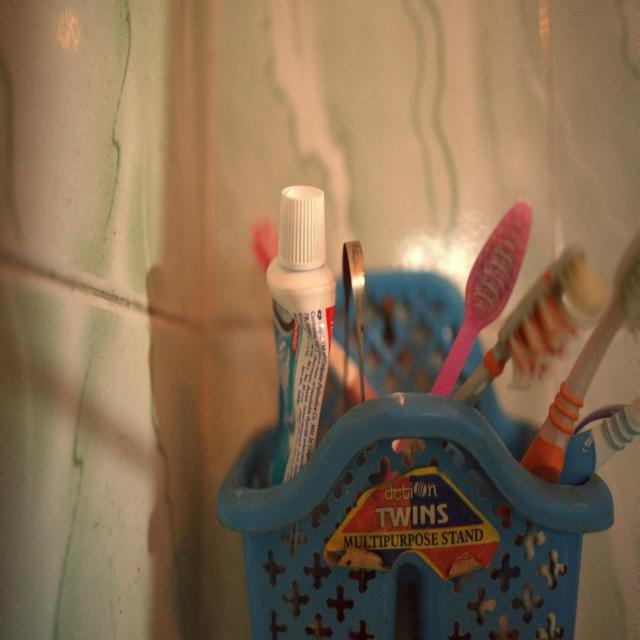Toothpaste: (265, 179, 338, 496)
